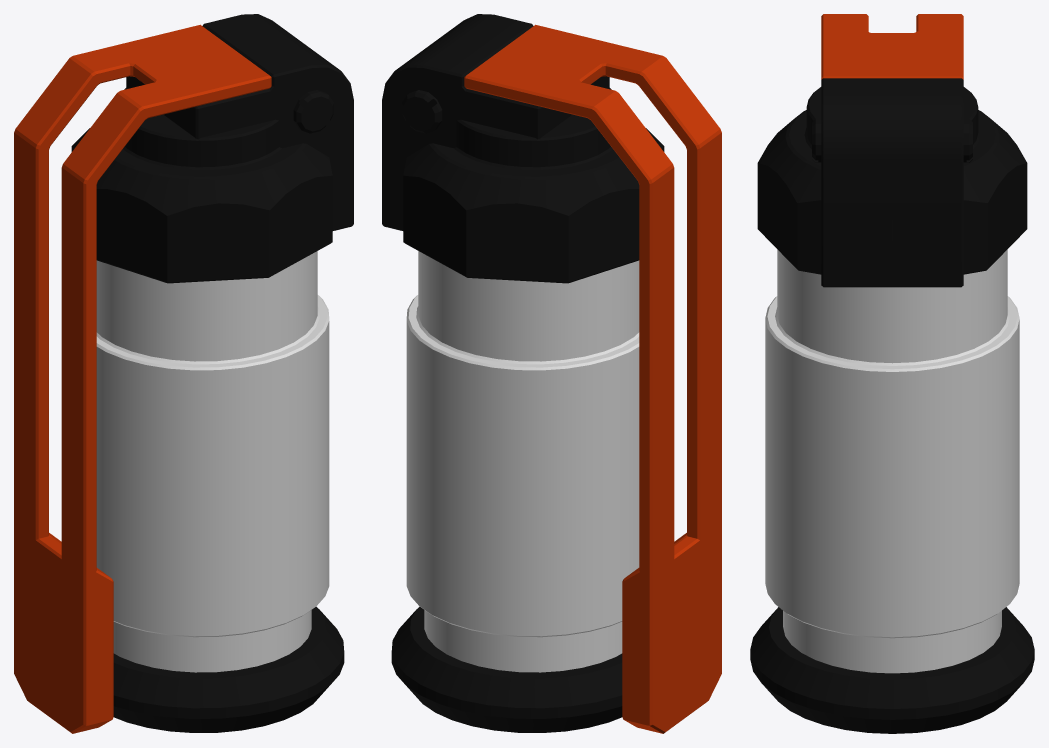
Rendered from Contraption.fbx.
The picture shows the model from 3 angles, left to right: view 1: azimuth 30°, elevation 25°; view 2: azimuth 150°, elevation 25°; view 3: azimuth 270°, elevation 25°; orthographic projection.
Visible parts, largest first — view 1: Contraption.OG.001; view 2: Contraption.OG.001; view 3: Contraption.OG.001.
Part boxes in pixels (x1,y1,x2,y2): Contraption.OG.001: [14, 14, 353, 733]; Contraption.OG.001: [382, 14, 721, 733]; Contraption.OG.001: [750, 14, 1034, 733].
Size of the model in its own units: 0.0558 by 0.12 by 0.0497.
